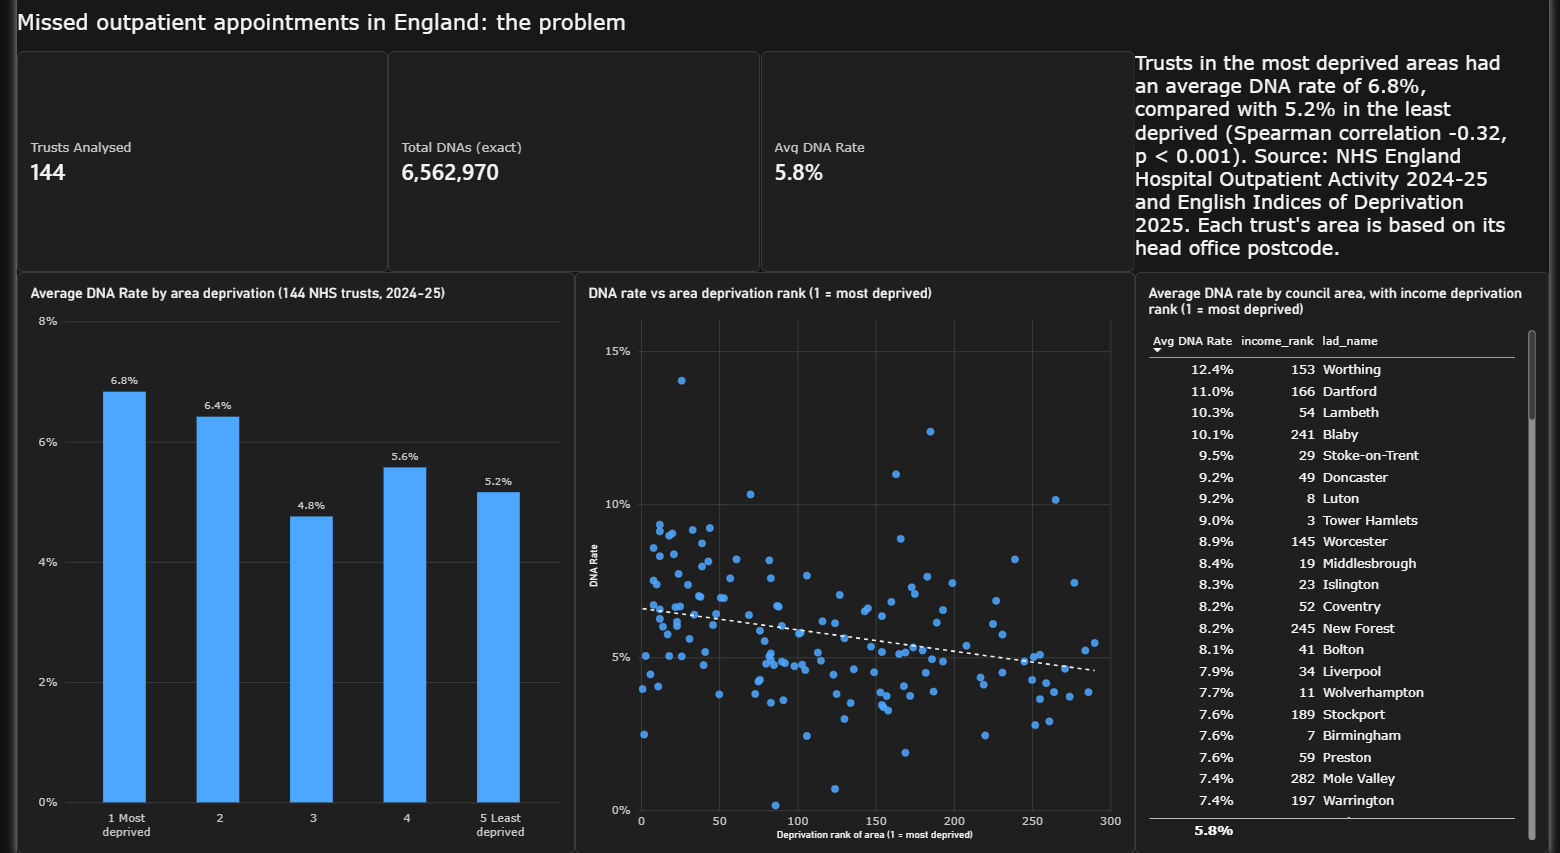

The page's visual inventory and layout, read from the dashboard file:
{"tool":"powerbi","page":{"name":"The Problem","canvas":[1920,1080],"ordinal":0},"visuals":[{"type":"cardVisual","fields":{"Data":["trusts.Trusts Analysed"]},"box":[0,72.9,465.4,277.2],"z":0},{"type":"cardVisual","fields":{"Data":["trusts.Total DNAs (exact)"]},"box":[465.4,72.9,466.9,277.2],"z":1},{"type":"cardVisual","fields":{"Data":["trusts.Avg DNA Rate"]},"box":[932.3,72.9,468.3,277.2],"z":2},{"type":"clusteredColumnChart","title":"Average DNA Rate by area deprivation (144 NHS trusts, 2024-25)","fields":{"Category":["trusts.imd_quintile"],"Y":["trusts.Avg DNA Rate"]},"box":[0,350.2,698.8,729.5],"z":3},{"type":"scatterChart","title":"DNA rate vs area deprivation rank (1 = most deprived)","fields":{"Category":["trusts.ORGANISATION_DESCRIPTION"],"X":["Sum(trusts.imd_rank)"],"Y":["Sum(trusts.dna_rate)"]},"box":[698.8,350.2,701.8,729.5],"z":4},{"type":"textbox","box":[0,19,822.9,90.5],"z":5},{"type":"textbox","box":[1400.6,72.9,477.1,277.2],"z":6},{"type":"tableEx","title":"Average DNA rate by council area, with income deprivation rank (1 = most deprived)","fields":{"Values":["trusts.Avg DNA Rate","deprivation.income_rank","deprivation.lad_name"]},"box":[1400.6,350.2,519.4,729.5],"z":7}]}

Visuals, with their boxes in screenshot pixels (x1, y1, x2, y2), scaled from the page's 1920x1080 canvas onto the 1560x853 screenshot:
cardVisual - trusts.Trusts Analysed: x1=0 y1=58 x2=378 y2=277
cardVisual - trusts.Total DNAs (exact): x1=378 y1=58 x2=757 y2=277
cardVisual - trusts.Avg DNA Rate: x1=757 y1=58 x2=1138 y2=277
"Average DNA Rate by area deprivation (144 NHS trusts, 2024-25)" clusteredColumnChart: x1=0 y1=277 x2=568 y2=852
"DNA rate vs area deprivation rank (1 = most deprived)" scatterChart: x1=568 y1=277 x2=1138 y2=852
textbox: x1=0 y1=15 x2=669 y2=86
textbox: x1=1138 y1=58 x2=1526 y2=277
"Average DNA rate by council area, with income deprivation rank (1 = most deprived)" tableEx: x1=1138 y1=277 x2=1559 y2=852
